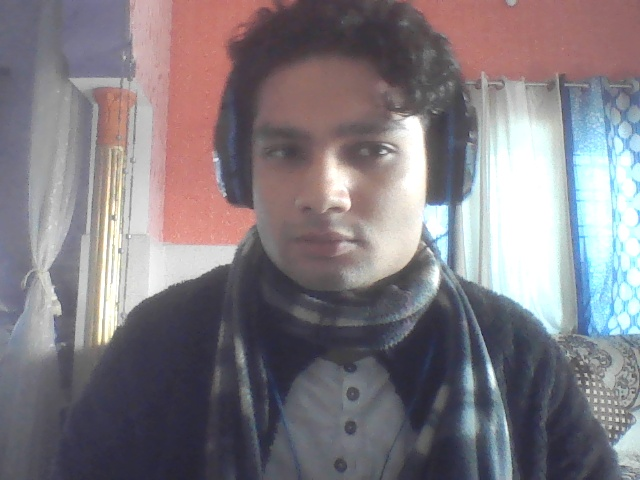real: (221, 0, 455, 331)
